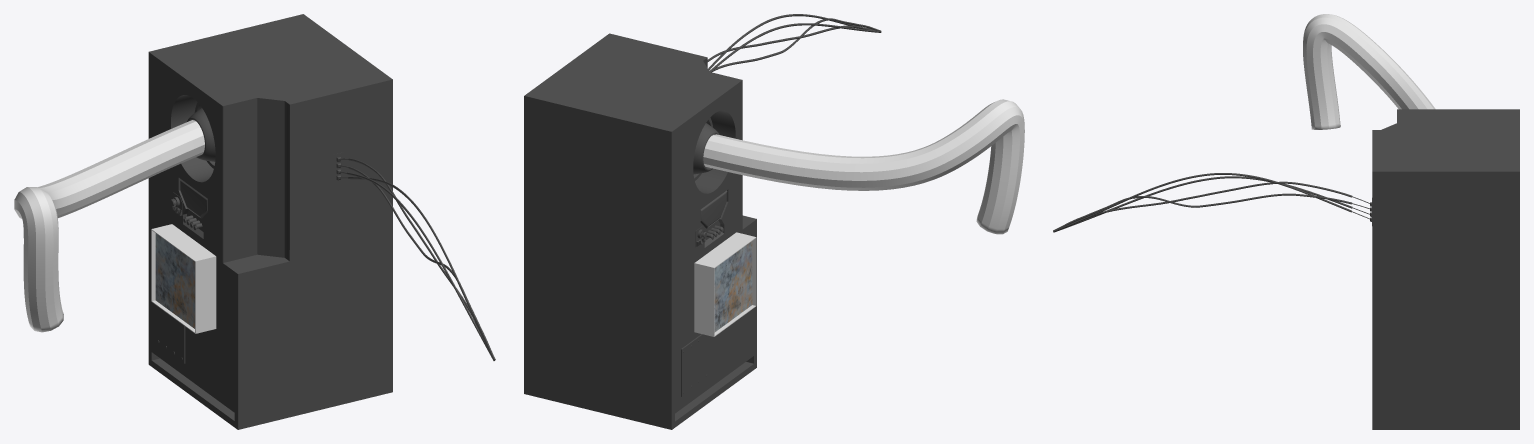
Rendered from maquinaGr 1.fbx.
3 views of the same model, side by side, from view 1: azimuth 30°, elevation 25°; view 2: azimuth 150°, elevation 25°; view 3: azimuth 270°, elevation 25° (orthographic). The views are drawn at different scales.
Parts seen in each view (by area): view 1: MaquinaTubo, Cube, Puerta; view 2: MaquinaTubo, Cube, Puerta; view 3: MaquinaTubo.
Boxes of the visible parts, x1,y1,x2,y2 form: MaquinaTubo: [14, 14, 495, 429]; Cube: [151, 224, 216, 333]; Puerta: [155, 233, 194, 328]; MaquinaTubo: [524, 14, 1024, 429]; Cube: [694, 232, 756, 336]; Puerta: [714, 241, 752, 332]; MaquinaTubo: [1053, 14, 1519, 429].
Size of the model in its own units: 366 by 275 by 448.
Materials: 5 (1 with a texture image).
